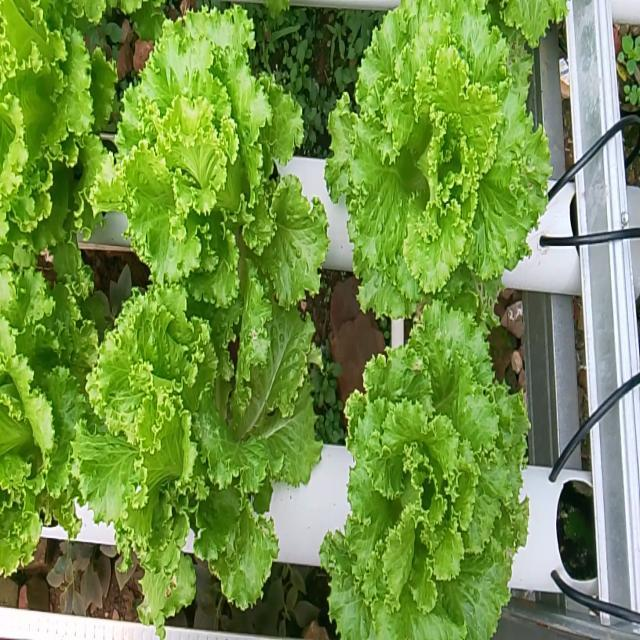Mature: (79, 249, 324, 599), (323, 281, 534, 628), (330, 0, 558, 311), (98, 0, 333, 296)
